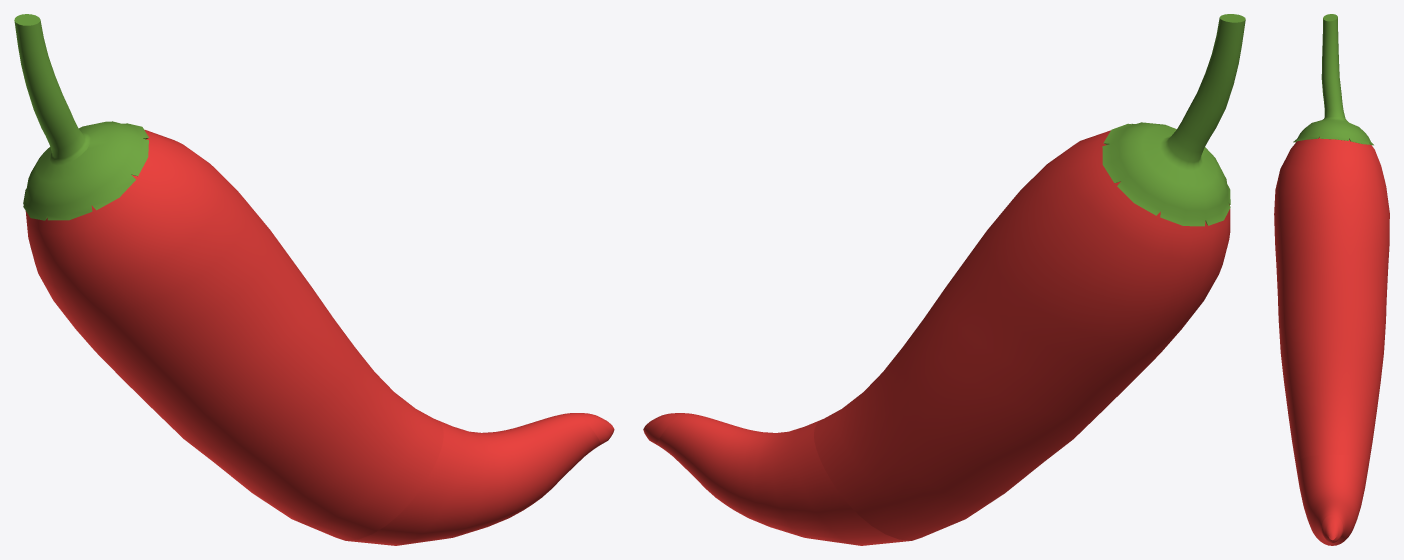
The model's file is hot_pepper.glb.
3 renders of one model, left to right at view 1: azimuth 30°, elevation 25°; view 2: azimuth 150°, elevation 25°; view 3: azimuth 270°, elevation 25°, orthographic. The views are drawn at different scales.
Visible parts, largest first — view 1: Circle.2198; view 2: Circle.2198; view 3: Circle.2198.
Boxes of the visible parts, x1,y1,x2,y2 form: Circle.2198: (14,14,614,545); Circle.2198: (643,14,1245,545); Circle.2198: (1274,14,1389,545).
Size of the model in its own units: 2.12 by 2.09 by 0.5691.
1 material, 1 textured.
